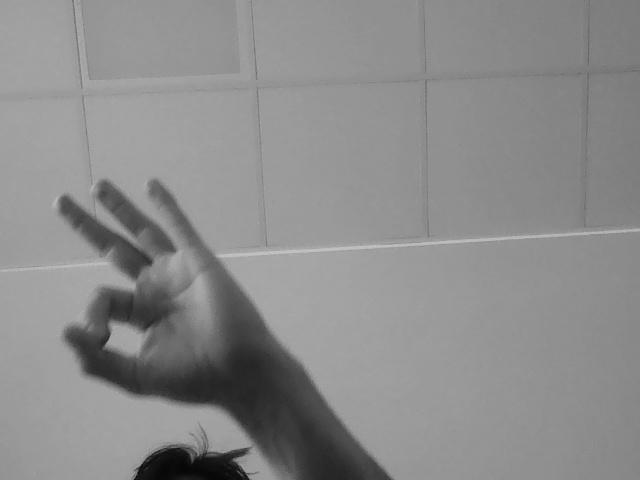OK: (43, 195, 255, 380)
